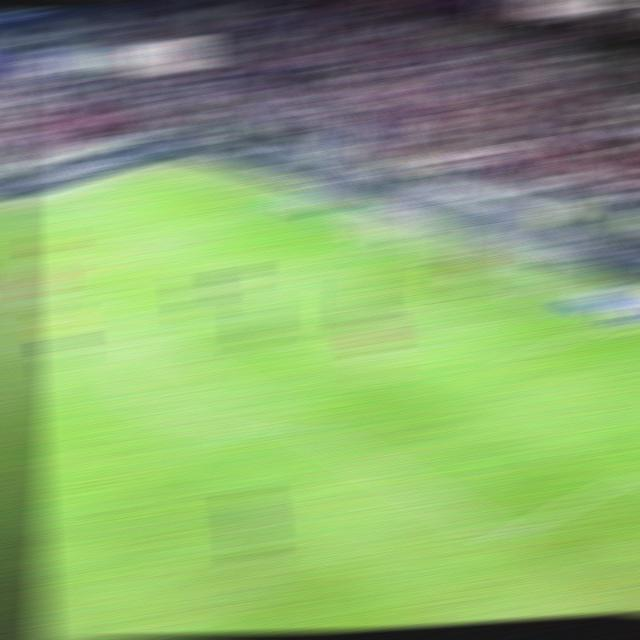bigarea_bottom_inner: (480, 521, 525, 551)
bigarea_top_inner: (26, 273, 62, 291)
bigarea_top_outter: (256, 195, 293, 209)
bottom_arc_area_intersection: (287, 415, 329, 438)
corner: (149, 158, 188, 171)
smallarea_bottom_inner: (501, 343, 543, 369)
smallarea_bottom_outter: (587, 313, 626, 330)
smallarea_top_inner: (287, 259, 324, 276)
smallarea_top_outter: (358, 232, 399, 248)
top_arc_area_intersection: (127, 329, 167, 350)
